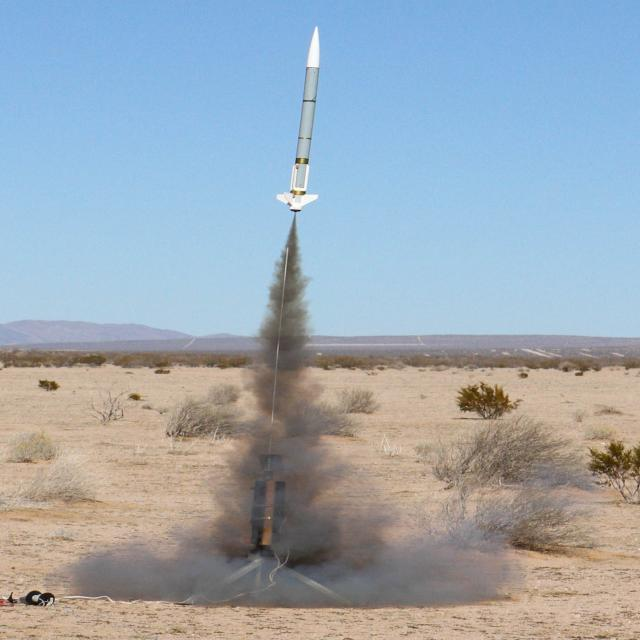Rocket: (276, 24, 320, 214)
